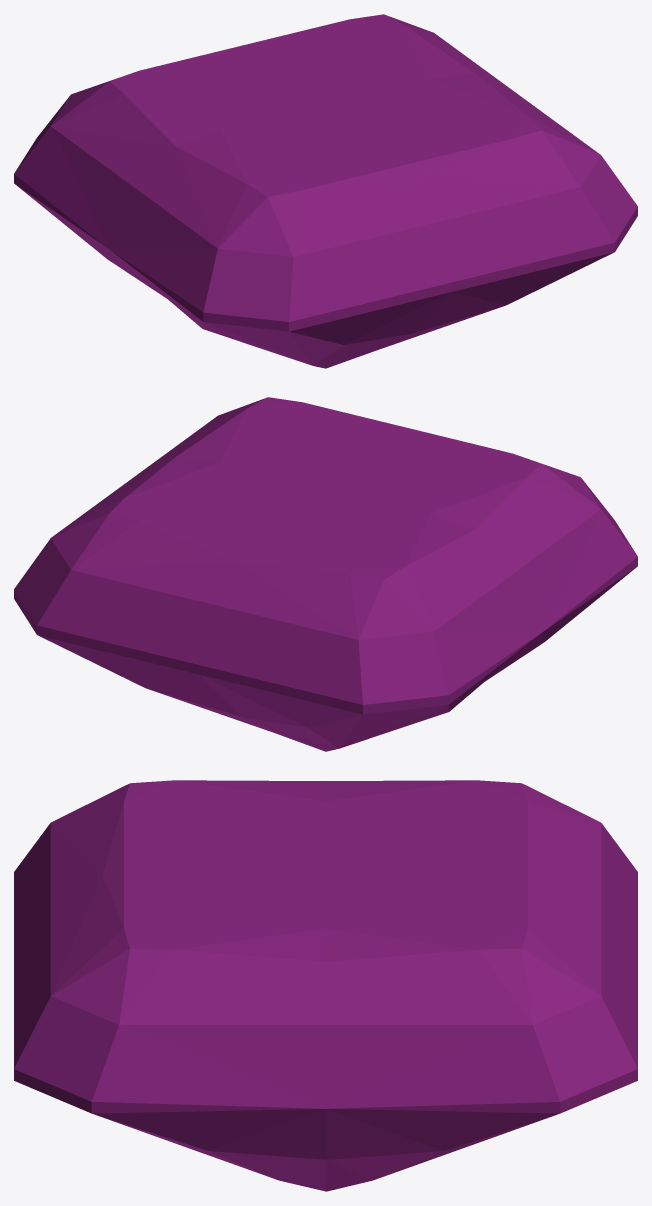
File: Gem014.fbx
3 views of the same model, one above another, from view 1: azimuth 30°, elevation 25°; view 2: azimuth 150°, elevation 25°; view 3: azimuth 270°, elevation 25° (orthographic). The views are drawn at different scales.
Parts seen in each view (by area): view 1: Gem014; view 2: Gem014; view 3: Gem014.
Boxes of the visible parts, <box> form: Gem014: <box>14,14,637,368</box>; Gem014: <box>14,397,637,751</box>; Gem014: <box>14,780,637,1191</box>.
Size of the model in its own units: 248 by 144 by 249.
